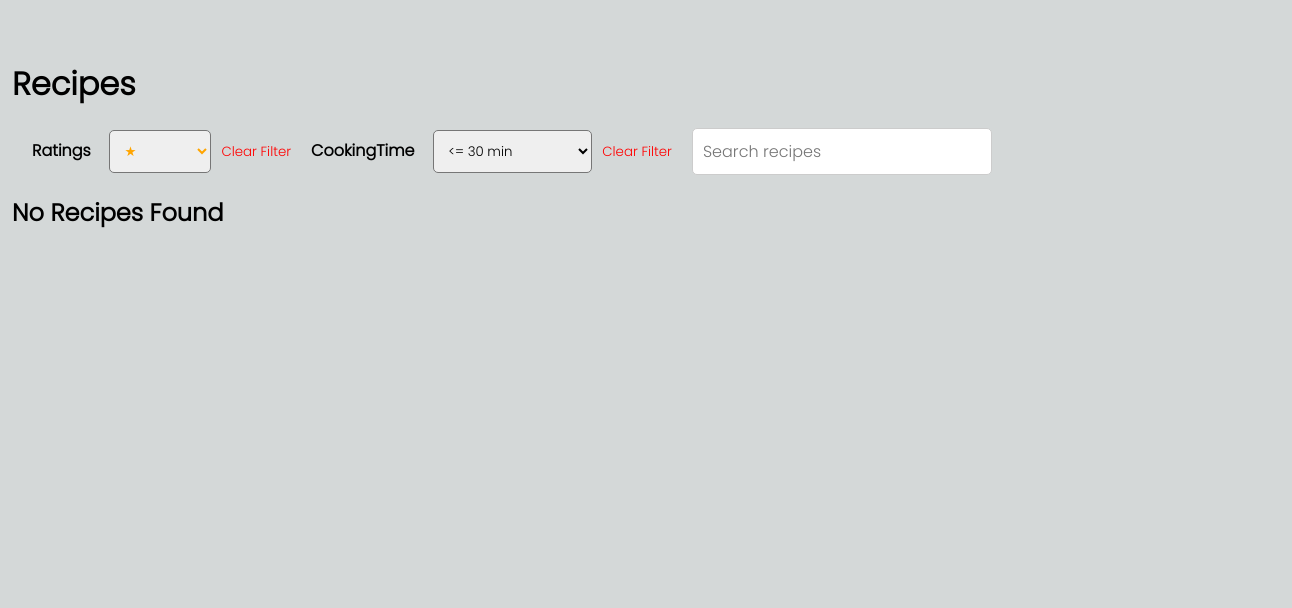
ViewAllRecipes › should filter recipes based on the cooking time
Select "<= 60 min" in the dropdown labelled "CookingTime" at (513, 152), box [433,130,592,173]
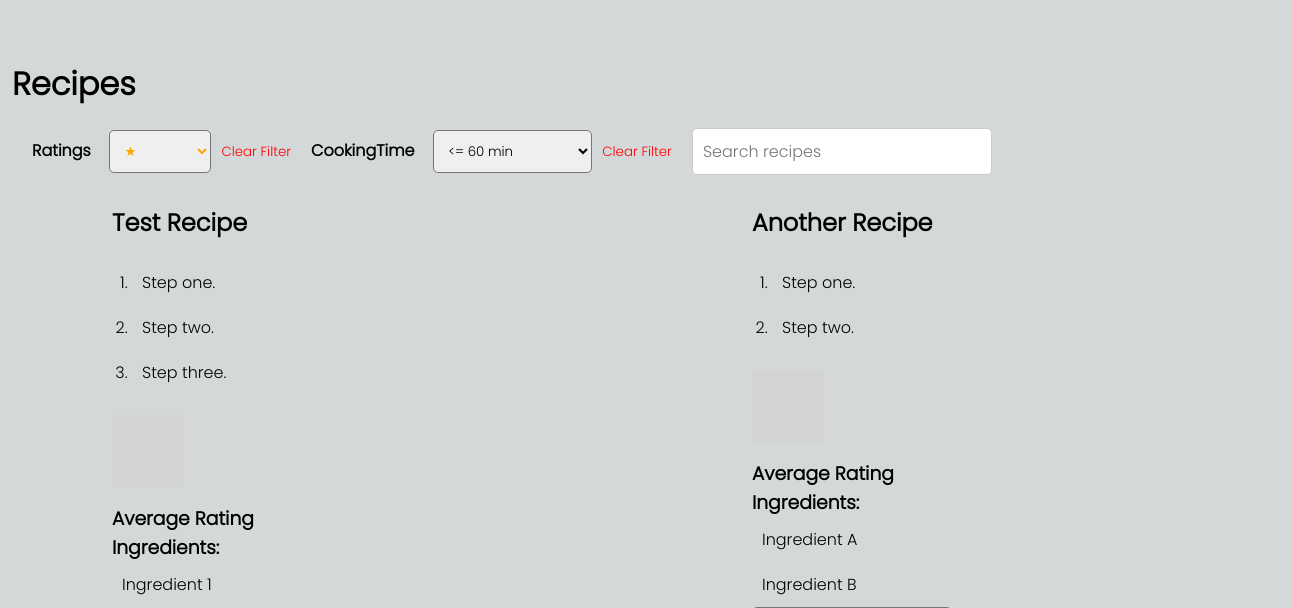
Now the heading "Test Recipe" is shown, box [112,206,247,239]
